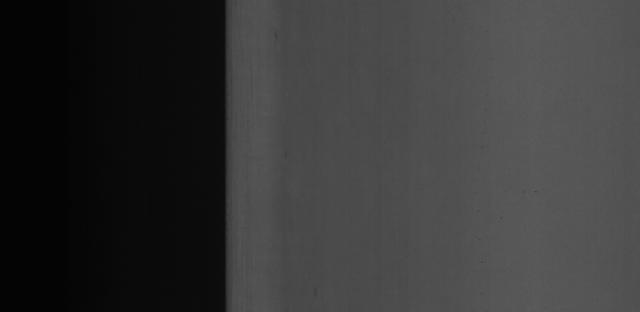inclusion: (531, 187, 541, 197)
